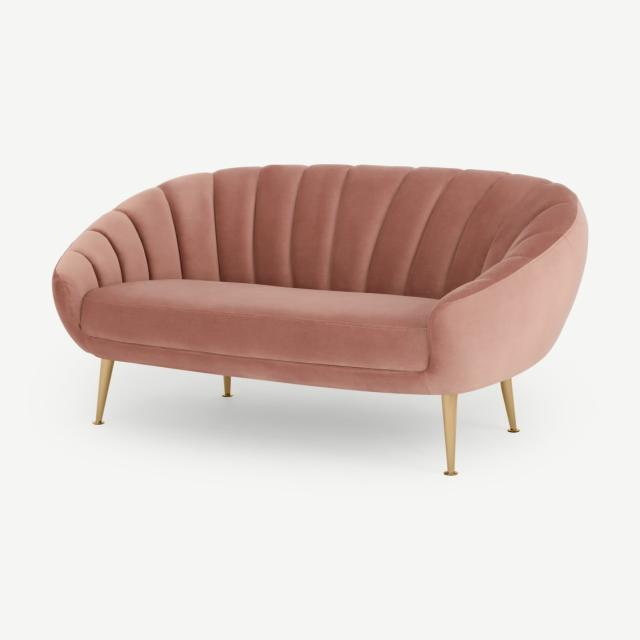Soffa: (49, 150, 585, 482)
